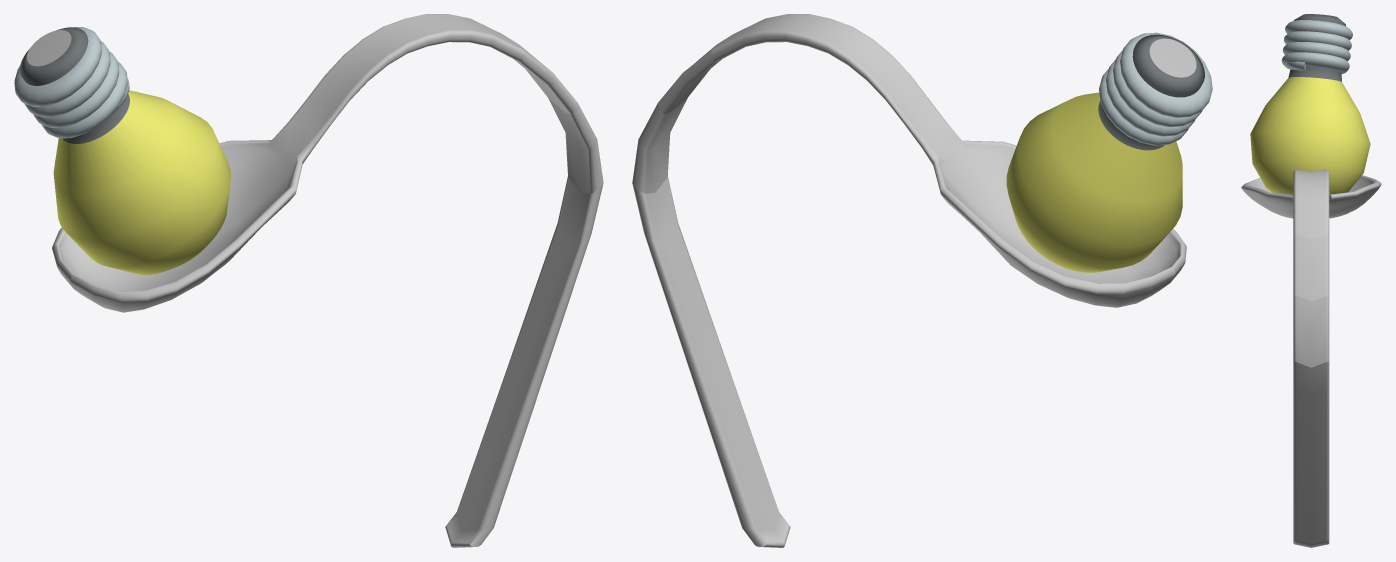
Rendered from Spoon_With_Lightbulb.fbx.
3 views of the same model, side by side, from view 1: azimuth 30°, elevation 25°; view 2: azimuth 150°, elevation 25°; view 3: azimuth 270°, elevation 25° (orthographic). The views are drawn at different scales.
Visible parts, largest first — view 1: Spoon; view 2: Spoon; view 3: Spoon.
Part boxes in pixels (x1,y1,x2,y2): Spoon: (14,14,603,547); Spoon: (632,14,1212,547); Spoon: (1241,14,1381,547).
Bounding box in the file's own units: 5.3 × 5.4 × 1.69.
